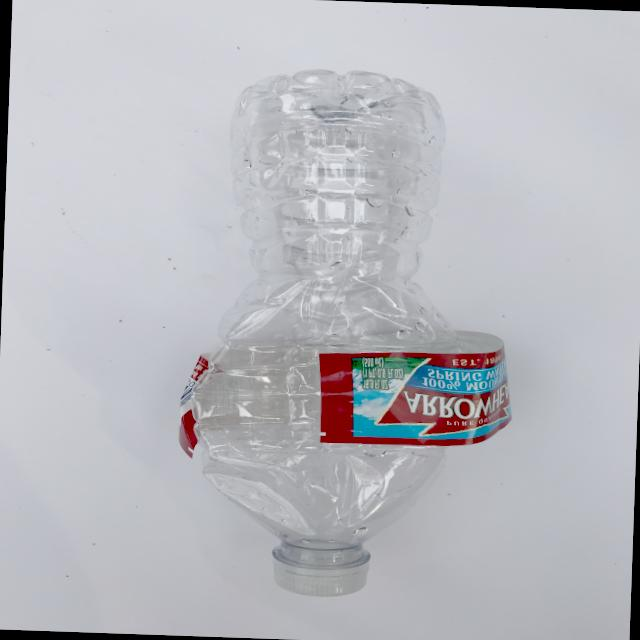Plastic: (90, 0, 541, 624)
